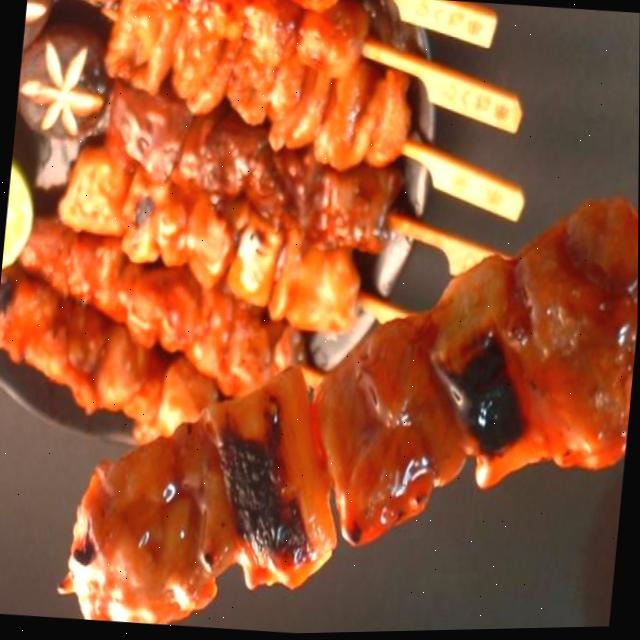烧串烤肉: (44, 140, 639, 639)
